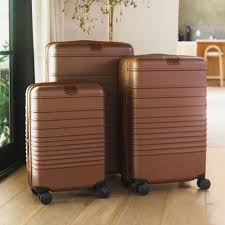suitcase: (119, 51, 213, 196), (38, 41, 135, 180), (25, 79, 110, 203)
